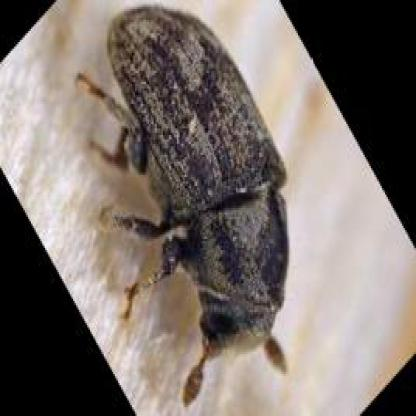ash weevil: (79, 5, 289, 360)
